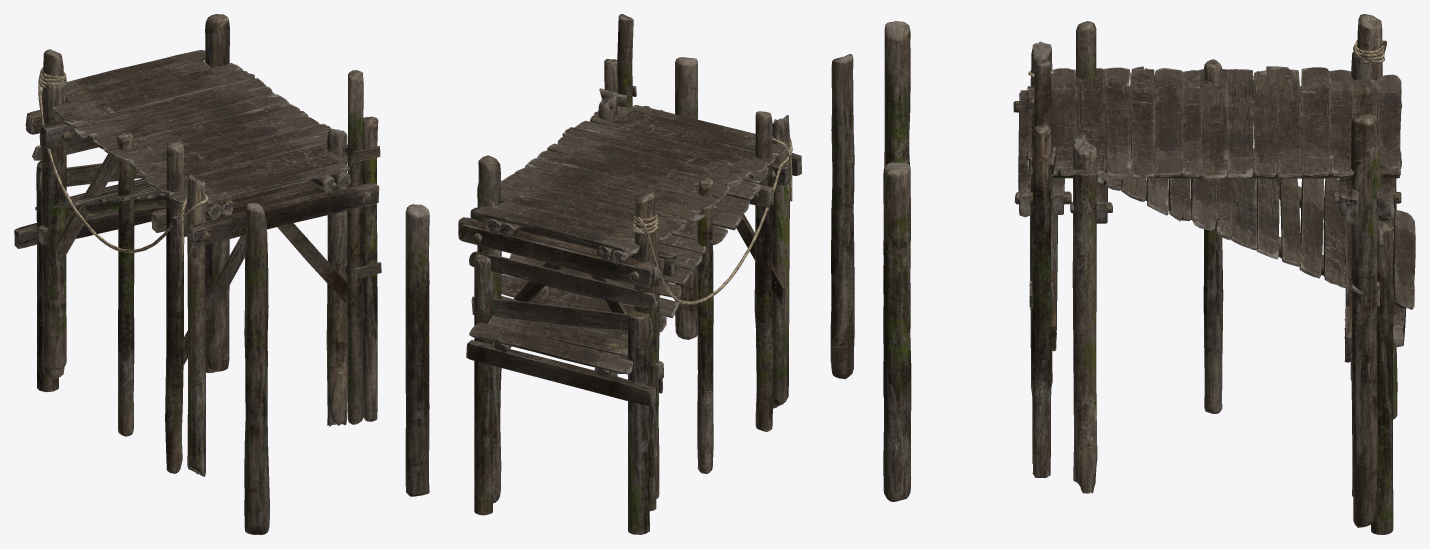
File: trapiche.glb
3 renders of one model, left to right at view 1: azimuth 30°, elevation 25°; view 2: azimuth 150°, elevation 25°; view 3: azimuth 270°, elevation 25°, orthographic. The views are drawn at different scales.
Visible parts, largest first — view 1: section_01, section_03, poles, section_04, section_02; view 2: section_04, section_01, section_03, poles, section_02; view 3: section_04, section_01, section_03, section_02, poles.
Boxes of the visible parts, x1,y1,x2,y2 form: section_01: (27, 49, 381, 476); section_03: (26, 14, 350, 370); poles: (117, 132, 429, 534); section_04: (14, 129, 347, 473); section_02: (25, 50, 336, 371); section_04: (466, 91, 773, 534); section_01: (458, 14, 801, 510); section_03: (461, 106, 775, 498); poles: (675, 53, 854, 473); section_02: (458, 110, 774, 503); section_04: (1070, 21, 1415, 534); section_01: (1013, 14, 1401, 477); section_03: (1027, 51, 1401, 498); section_02: (1028, 52, 1402, 527); poles: (883, 21, 1223, 501).
Bounding box in the file's own units: 2.56 × 4.69 × 4.83.
3 materials, 3 textured.
